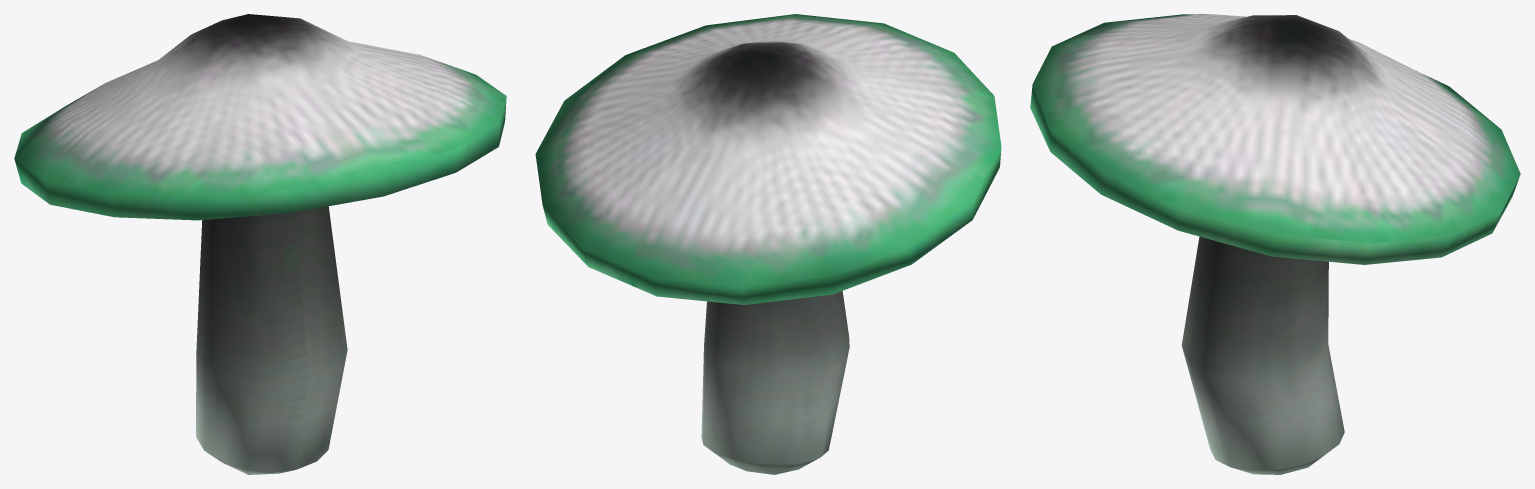
Rendered from INST_TROLLHOLE_SHROOMB4.obj.
The picture shows the model from 3 angles, left to right: view 1: azimuth 30°, elevation 25°; view 2: azimuth 150°, elevation 25°; view 3: azimuth 270°, elevation 25°; orthographic projection. The views are drawn at different scales.
Parts seen in each view (by area): view 1: hroomB4_Lod1_01; view 2: hroomB4_Lod1_01; view 3: hroomB4_Lod1_01.
Part boxes in pixels (box(x1,y1,x2,y2)): hroomB4_Lod1_01: box(14, 14, 506, 474); hroomB4_Lod1_01: box(535, 14, 1001, 474); hroomB4_Lod1_01: box(1030, 14, 1520, 474).
Bounding box in the file's own units: 400 × 390 × 394.
